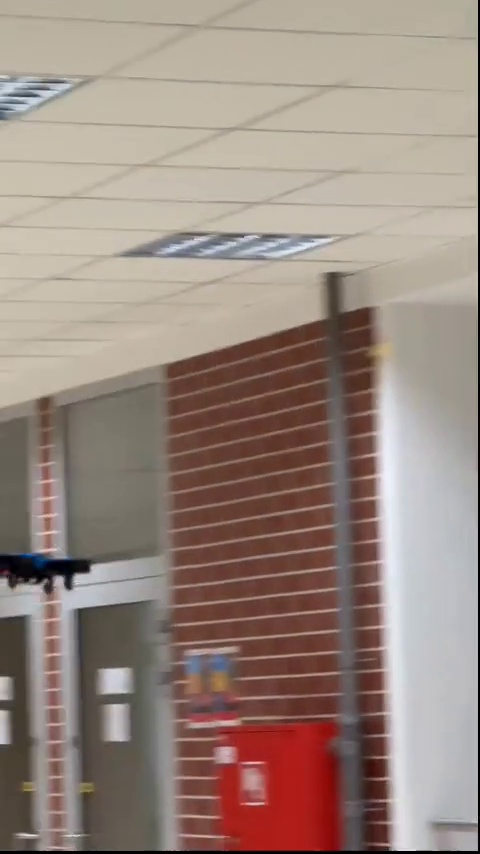drone: (3, 547, 95, 591)
